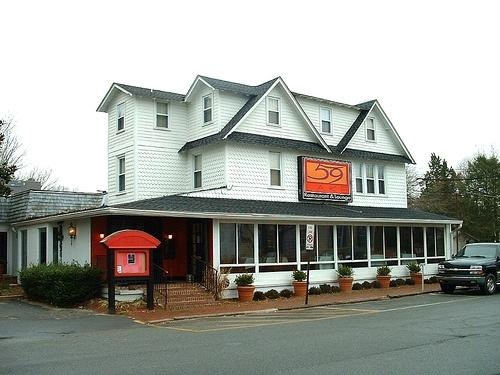car: (438, 241, 500, 301)
pottedplant: (236, 272, 259, 304), (288, 270, 315, 297), (337, 265, 359, 296), (405, 261, 427, 288), (375, 265, 397, 290)
